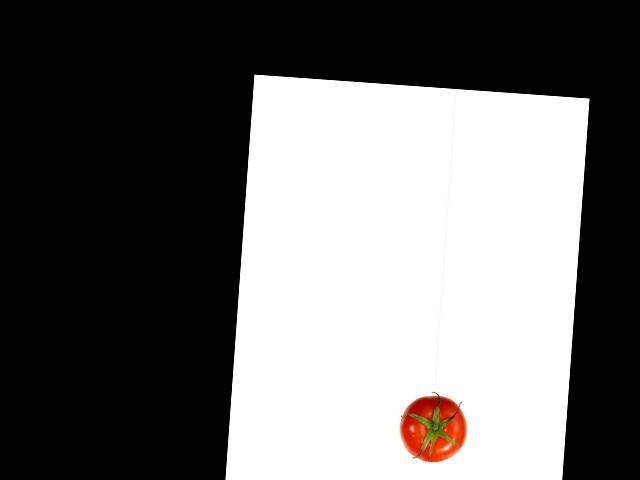tomato: (397, 393, 468, 465)
